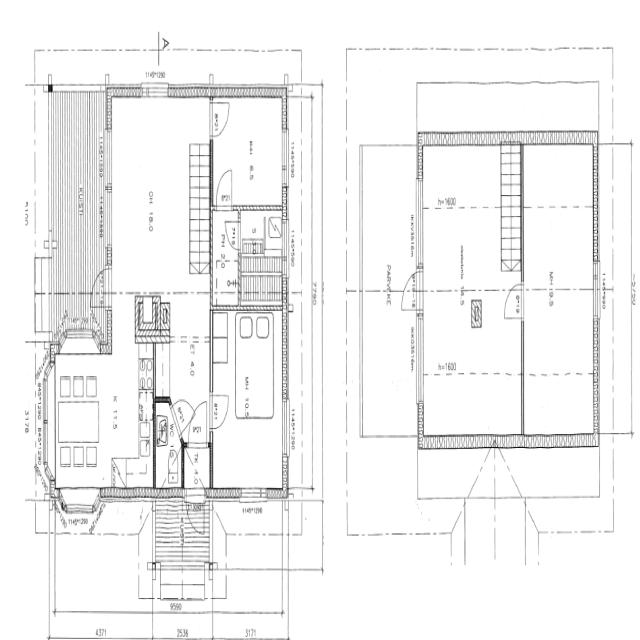door: (185, 396, 211, 446), (208, 388, 231, 433), (502, 278, 524, 322), (209, 95, 231, 138), (214, 162, 234, 208), (186, 492, 204, 539), (223, 217, 241, 250), (401, 272, 416, 310)
window: (38, 362, 54, 471), (412, 168, 426, 272), (414, 308, 426, 404), (57, 328, 100, 352), (280, 393, 292, 462), (280, 123, 290, 190), (591, 257, 601, 321), (140, 80, 170, 100), (238, 485, 262, 502), (93, 492, 103, 526)
zone: (419, 140, 523, 439), (109, 94, 205, 296), (209, 304, 286, 493), (50, 354, 154, 490), (521, 144, 596, 332), (522, 288, 599, 445), (362, 135, 418, 308), (212, 96, 286, 208), (152, 295, 212, 395), (240, 207, 285, 304), (211, 208, 239, 308), (155, 397, 176, 491), (182, 442, 212, 493)
